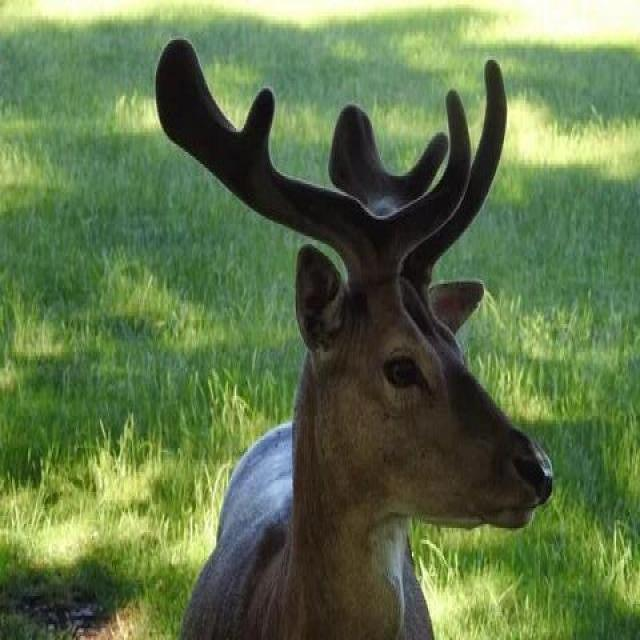deer: (175, 53, 573, 640)
